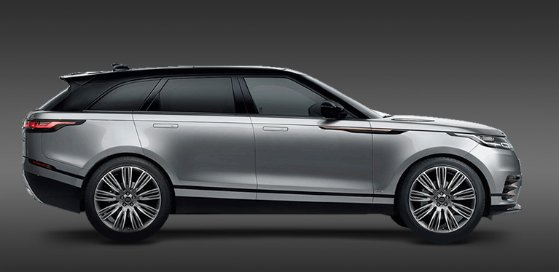car: (22, 59, 525, 248)
